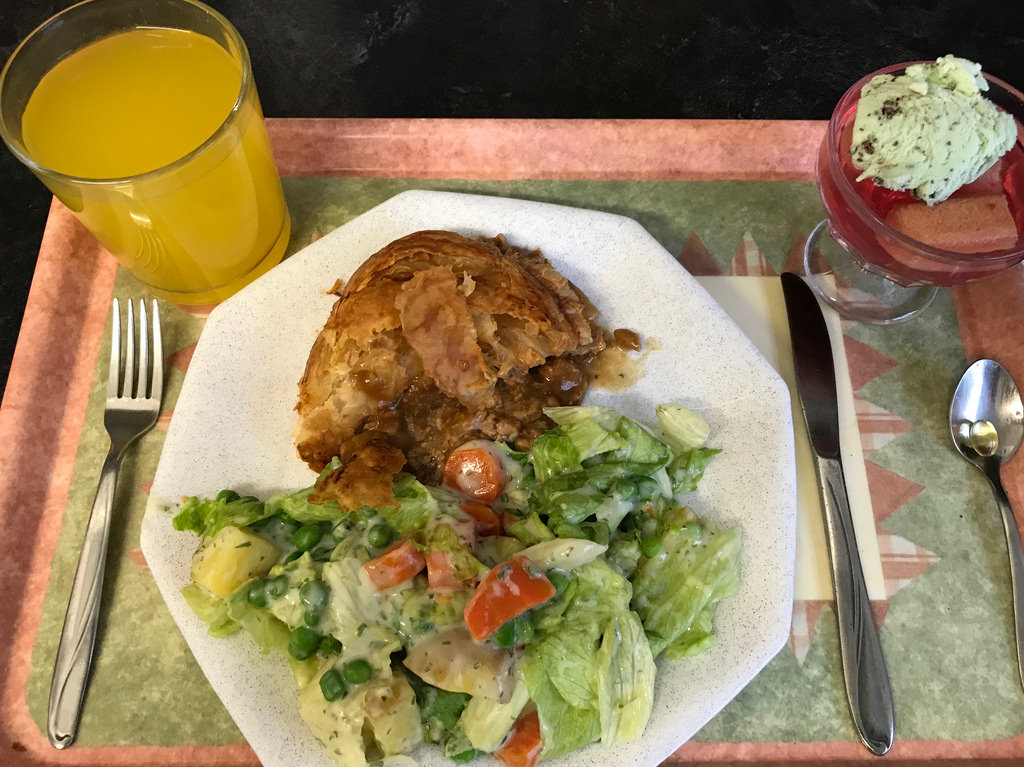chopped lettuce: (263, 493, 675, 690)
